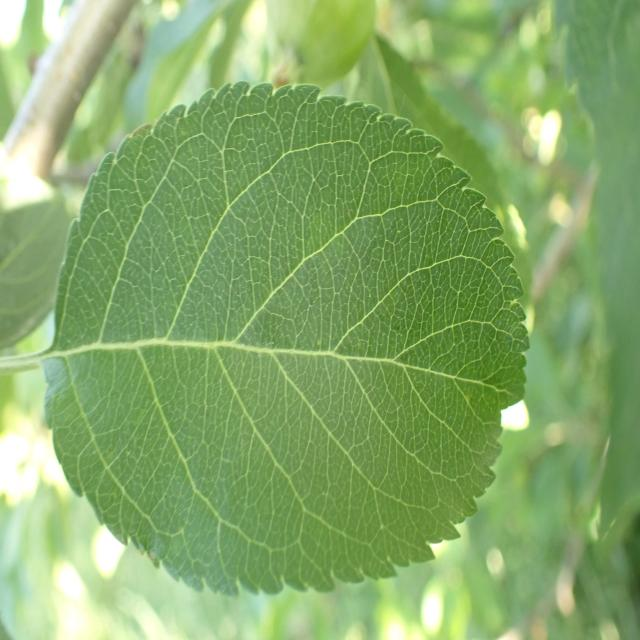healthy: (44, 79, 530, 599)
